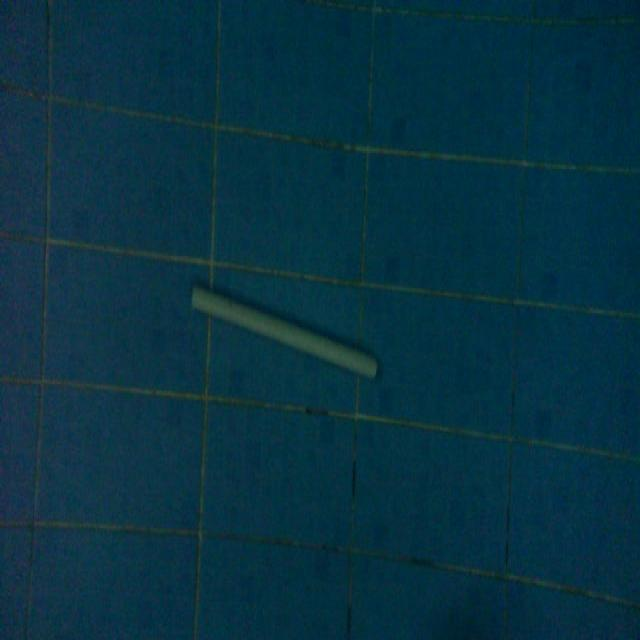Cube: (189, 277, 380, 386)
